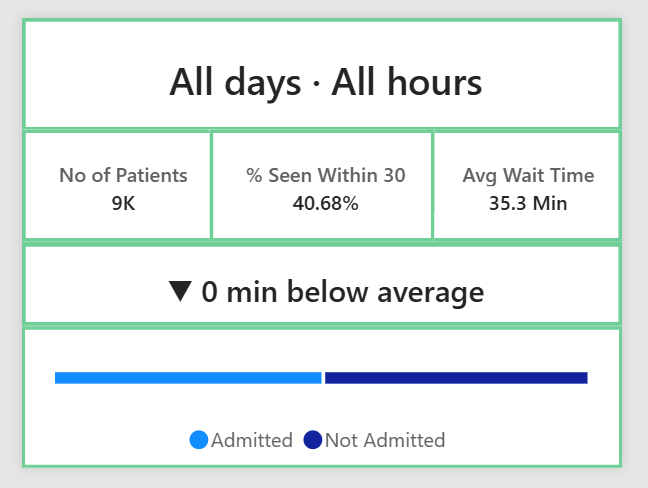

The dashboard page shown, as its layout file describes it:
{"tool":"powerbi","page":{"name":"Tooltip","canvas":[320,240],"ordinal":4},"visuals":[{"type":"cardVisual","fields":{"Data":["Hospital ER_Data.Tooltip Title"]},"box":[0,0,320,60],"z":0},{"type":"cardVisual","fields":{"Data":["Hospital ER_Data.No of Patients"]},"box":[0,59.1,104.1,60.9],"z":1},{"type":"cardVisual","fields":{"Data":["Hospital ER_Data.Avg Wait Time"]},"box":[215.8,59.2,104.1,60.5],"z":2},{"type":"cardVisual","fields":{"Data":["Hospital ER_Data.% Seen Within 30"]},"box":[100,59.2,120,60.8],"z":3},{"type":"hundredPercentStackedBarChart","fields":{"Series":["Hospital ER_Data.Admission Status"],"Y":["Hospital ER_Data.No of Patients"]},"box":[0,164.7,320,75.3],"z":4},{"type":"cardVisual","fields":{"Data":["Hospital ER_Data.Tooltip Insight"]},"box":[0,120,320,44.5],"z":5}]}

Visuals, with their boxes in screenshot pixels (x1, y1, x2, y2), scaled from the page's 320x240 canvas onto the 648x488 screenshot:
cardVisual - Hospital ER_Data.Tooltip Title: (left=0, top=0, right=647, bottom=122)
cardVisual - Hospital ER_Data.No of Patients: (left=0, top=120, right=211, bottom=244)
cardVisual - Hospital ER_Data.Avg Wait Time: (left=437, top=120, right=647, bottom=243)
cardVisual - Hospital ER_Data.% Seen Within 30: (left=202, top=120, right=446, bottom=244)
hundredPercentStackedBarChart - Hospital ER_Data.Admission Status x Hospital ER_Data.No of Patients: (left=0, top=335, right=647, bottom=487)
cardVisual - Hospital ER_Data.Tooltip Insight: (left=0, top=244, right=647, bottom=334)
